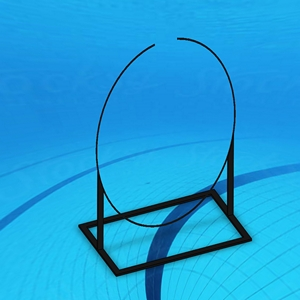circle: (77, 36, 252, 278)
